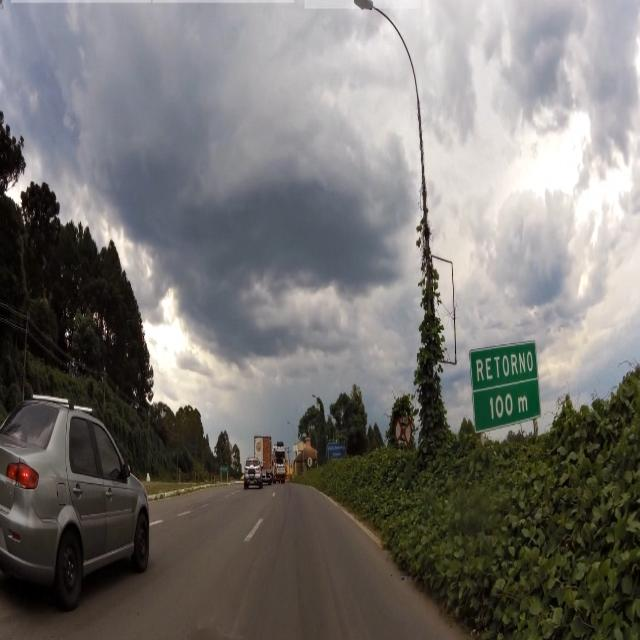I-4: (474, 350, 539, 417)
